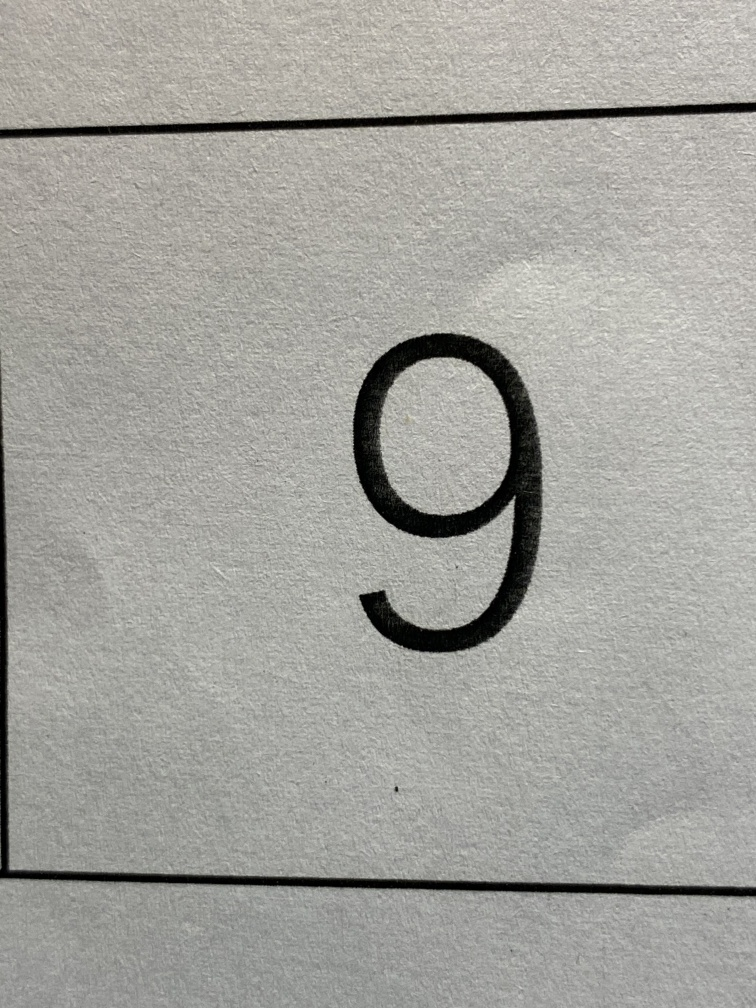nine: (280, 261, 629, 765)
